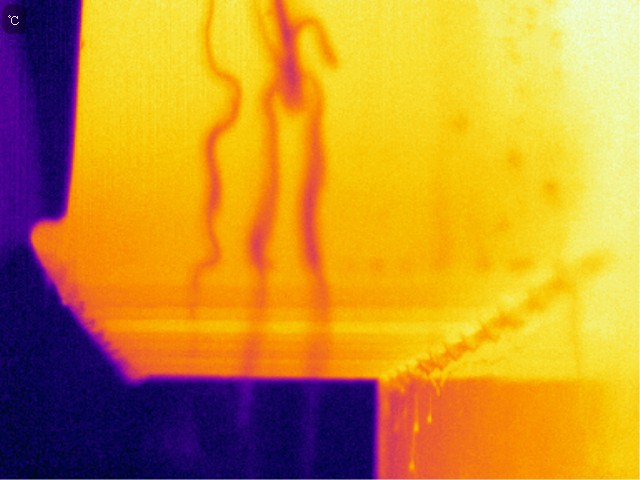Water: (246, 1, 344, 382), (192, 1, 241, 291)
